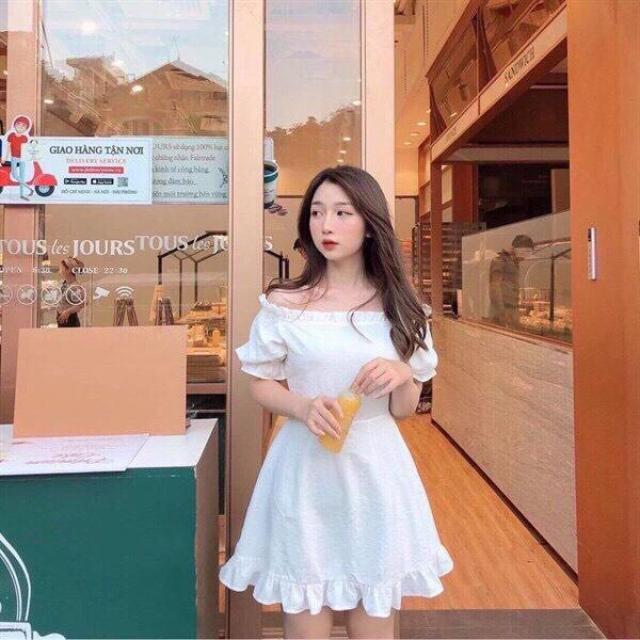clothes: (225, 284, 456, 615)
